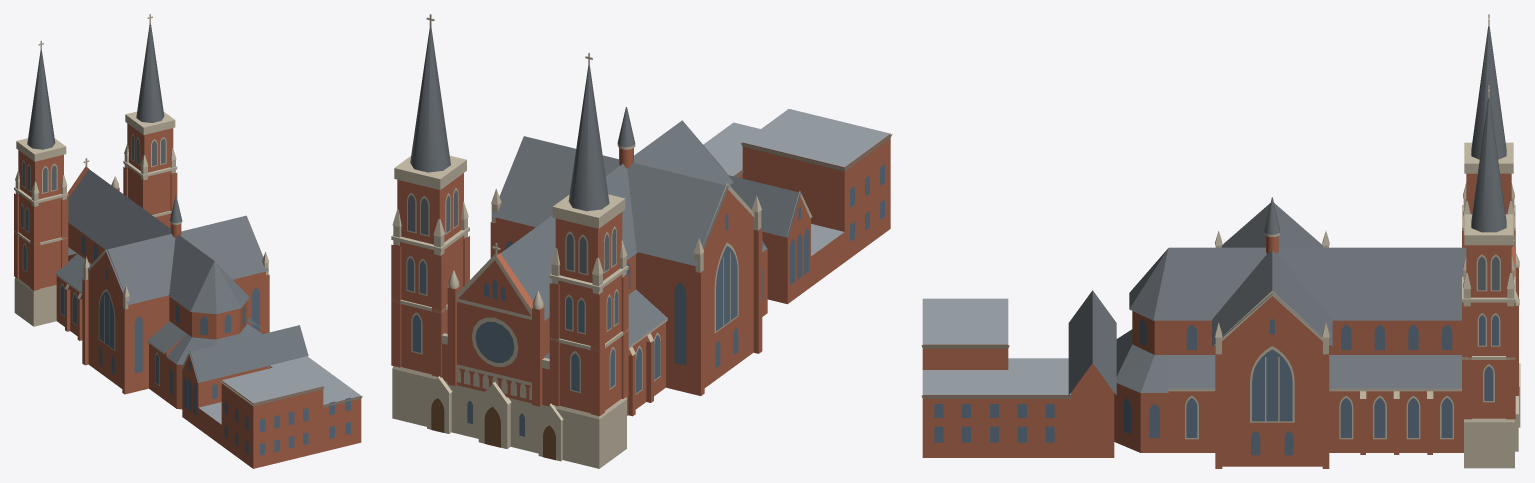
File: det-ste-anne.glb
3 views of the same model, side by side, from view 1: azimuth 30°, elevation 25°; view 2: azimuth 150°, elevation 25°; view 3: azimuth 270°, elevation 25° (orthographic). The views are drawn at different scales.
Parts seen in each view (by area): view 1: Basilica of Sainte Anne de Détroit; view 2: Basilica of Sainte Anne de Détroit; view 3: Basilica of Sainte Anne de Détroit.
Boxes of the visible parts, x1=… form: Basilica of Sainte Anne de Détroit: x1=14, y1=14, x2=362, y2=468; Basilica of Sainte Anne de Détroit: x1=391, y1=14, x2=892, y2=468; Basilica of Sainte Anne de Détroit: x1=921, y1=14, x2=1520, y2=468.
Bounding box in the file's own units: 32.4 × 58.8 × 86.05.
